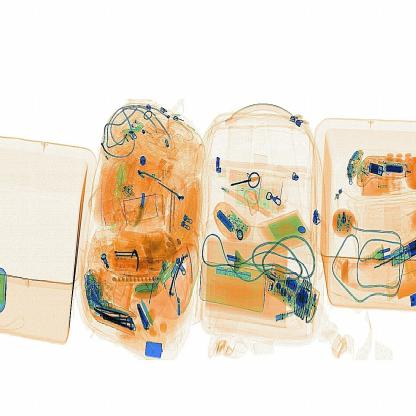wrench: (130, 180, 152, 233)
